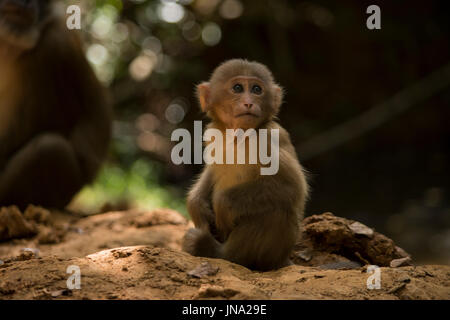monkey: (147, 32, 343, 285)
